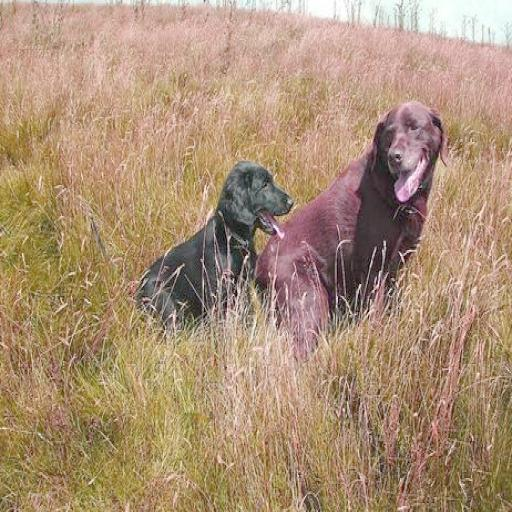dog_face: (371, 99, 450, 206)
